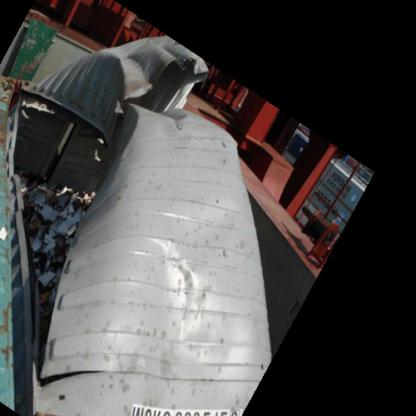Damage: (0, 79, 106, 369), (165, 246, 222, 342)
